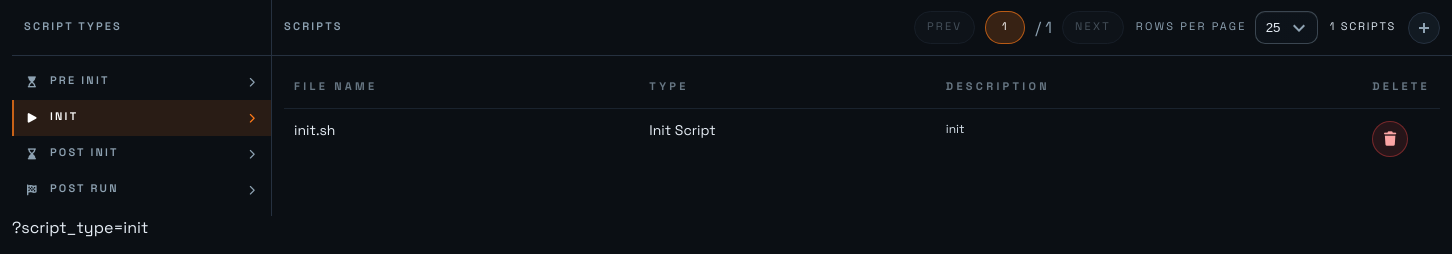
ScriptsPage › places pagination controls in header actions and updates query params
This screenshot has width=1452, height=254.
Expected: the link "init.sh" is shown, [294,122,335,140]
Expected: the navigation bar named "Scripts pages" is shown, [914,10,1124,44]
Select "10" in the dropdown labelled "Rows per page" at (1286, 28), box [1255,11,1318,44]
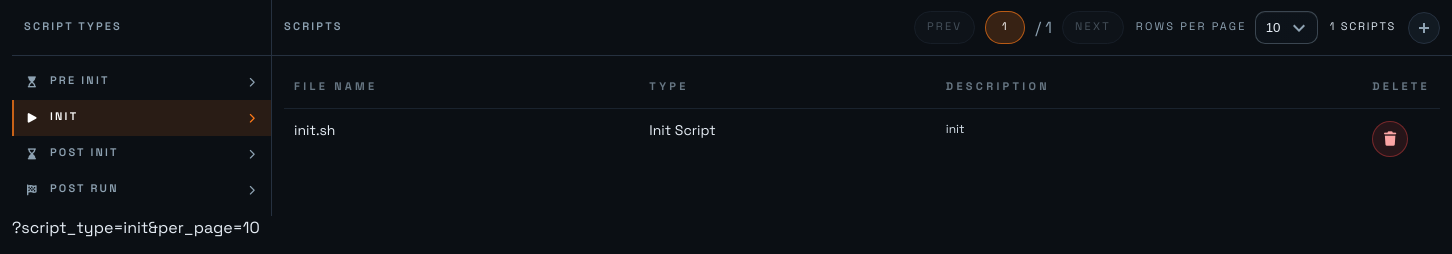
Expected: the text with test id "scripts-route-search" shows "per_page=10", [12,217,260,238]
